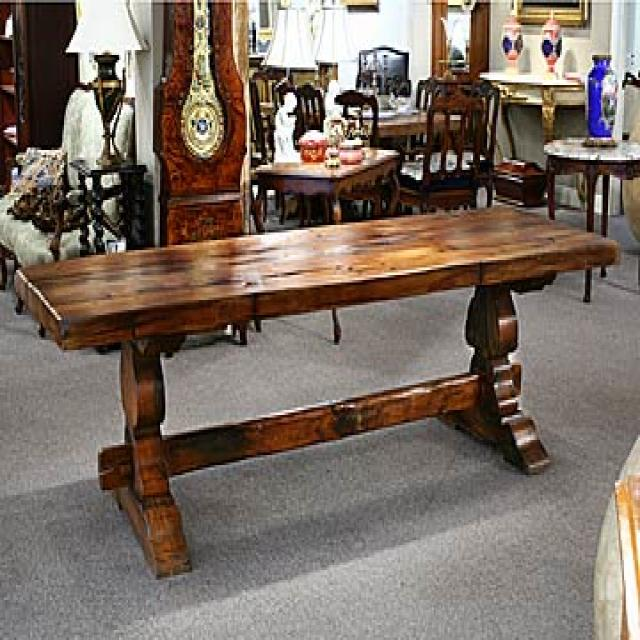table: (13, 196, 624, 587)
